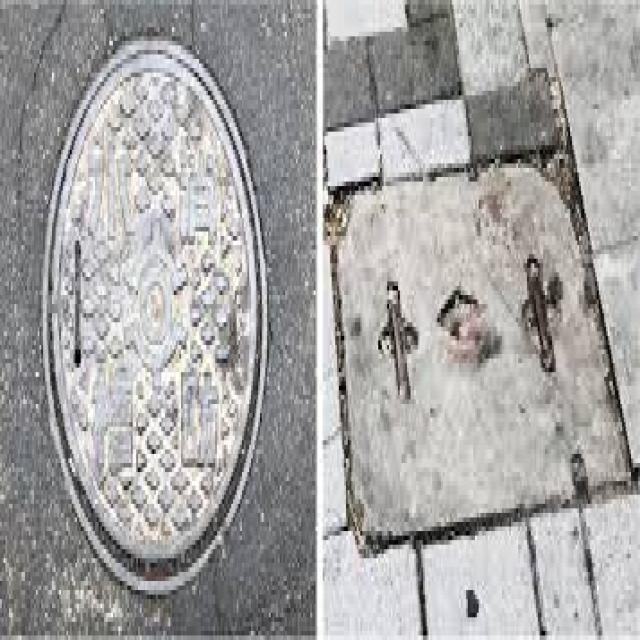manhole: (45, 40, 266, 593), (339, 168, 625, 529)
